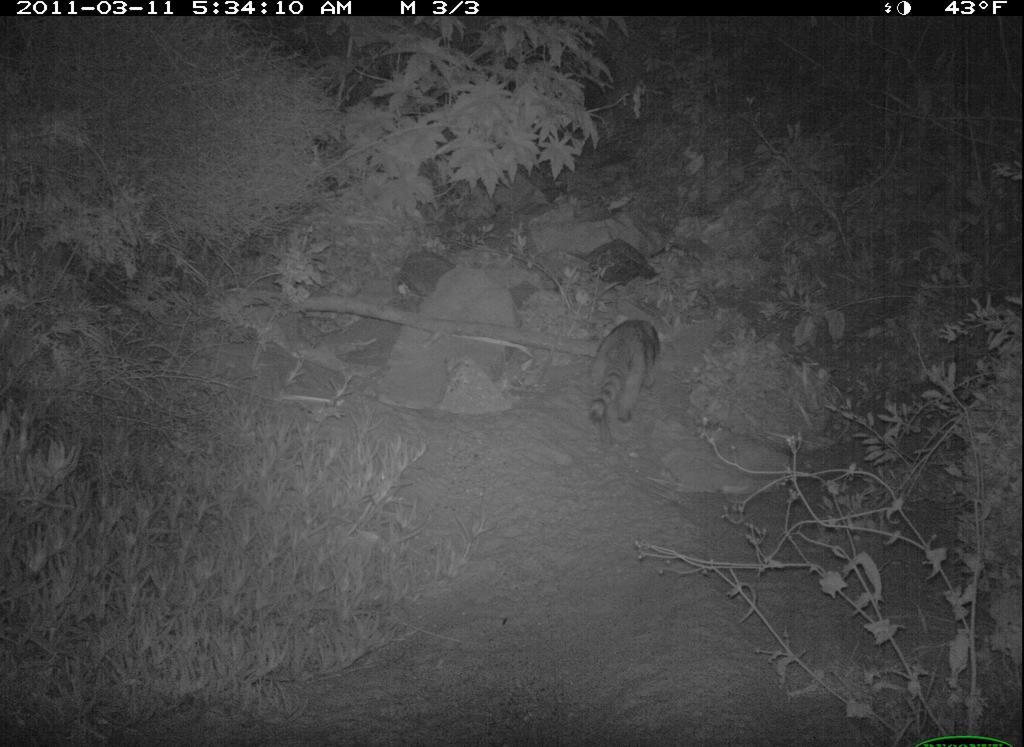raccoon: (577, 313, 671, 455)
